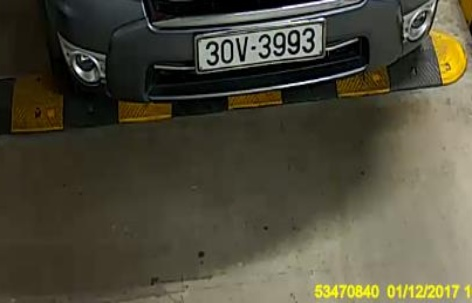plate: (190, 21, 327, 69)
